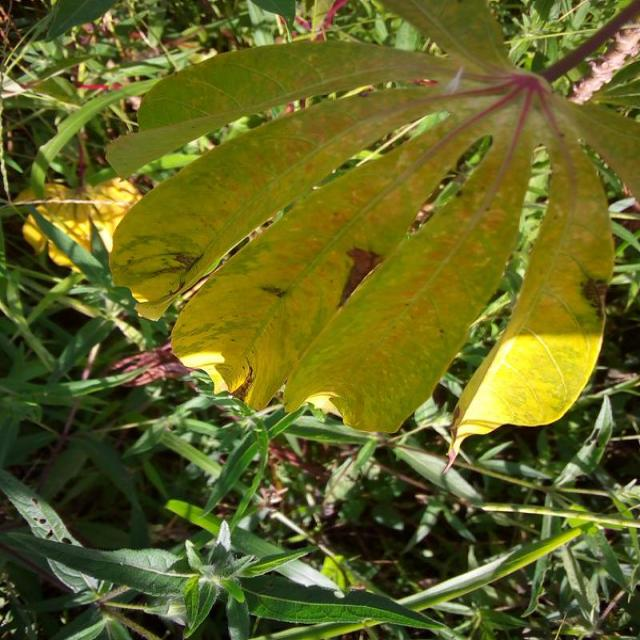cassava leaf: (105, 1, 638, 470)
